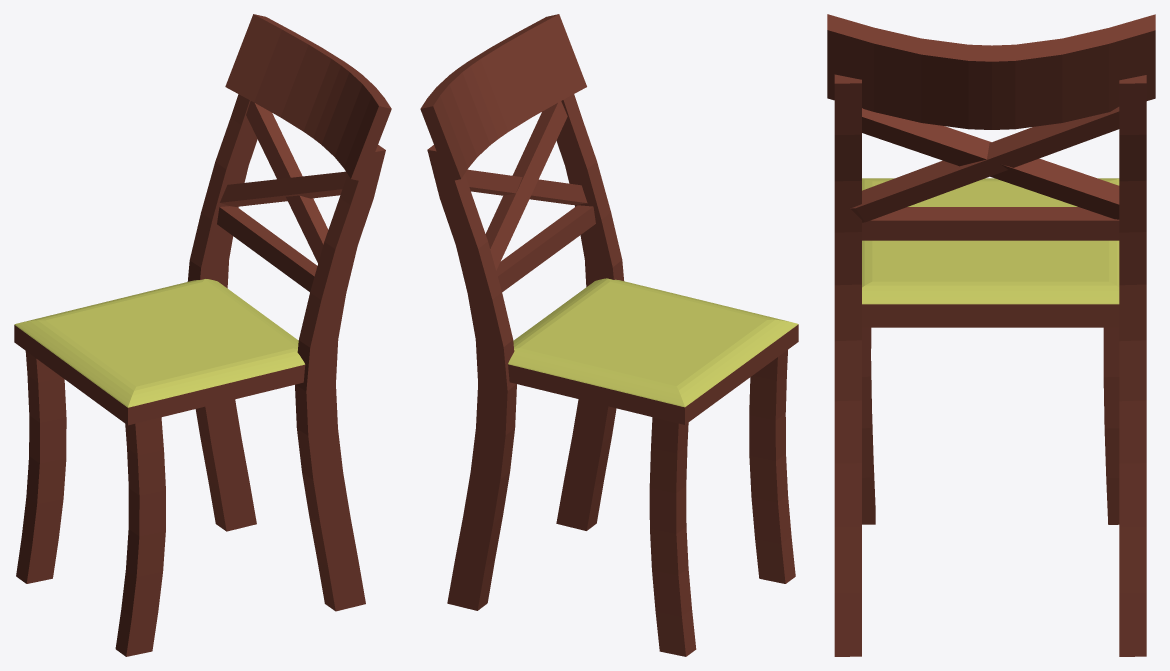
File: krzeso_by_szymon.fbx
The picture shows the model from 3 angles, left to right: view 1: azimuth 30°, elevation 25°; view 2: azimuth 150°, elevation 25°; view 3: azimuth 270°, elevation 25°; orthographic projection. The views are drawn at different scales.
Visible parts, largest first — view 1: krzeslo; view 2: krzeslo; view 3: krzeslo.
Part boxes in pixels (x1,y1,x2,y2): krzeslo: [14, 14, 391, 656]; krzeslo: [420, 14, 798, 656]; krzeslo: [827, 14, 1155, 656].
Bounding box in the file's own units: 2.88 × 4.83 × 2.21.
